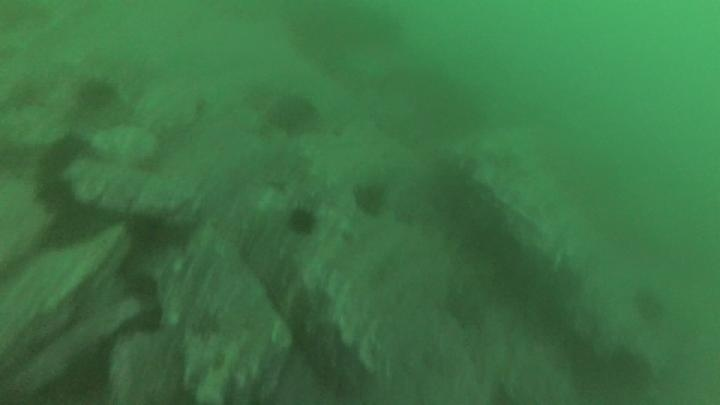echinus: (36, 133, 90, 179), (267, 91, 319, 135), (35, 175, 77, 215), (75, 75, 119, 111), (351, 180, 389, 219), (631, 286, 667, 323), (285, 204, 320, 238)
starfish: (440, 283, 488, 332)
